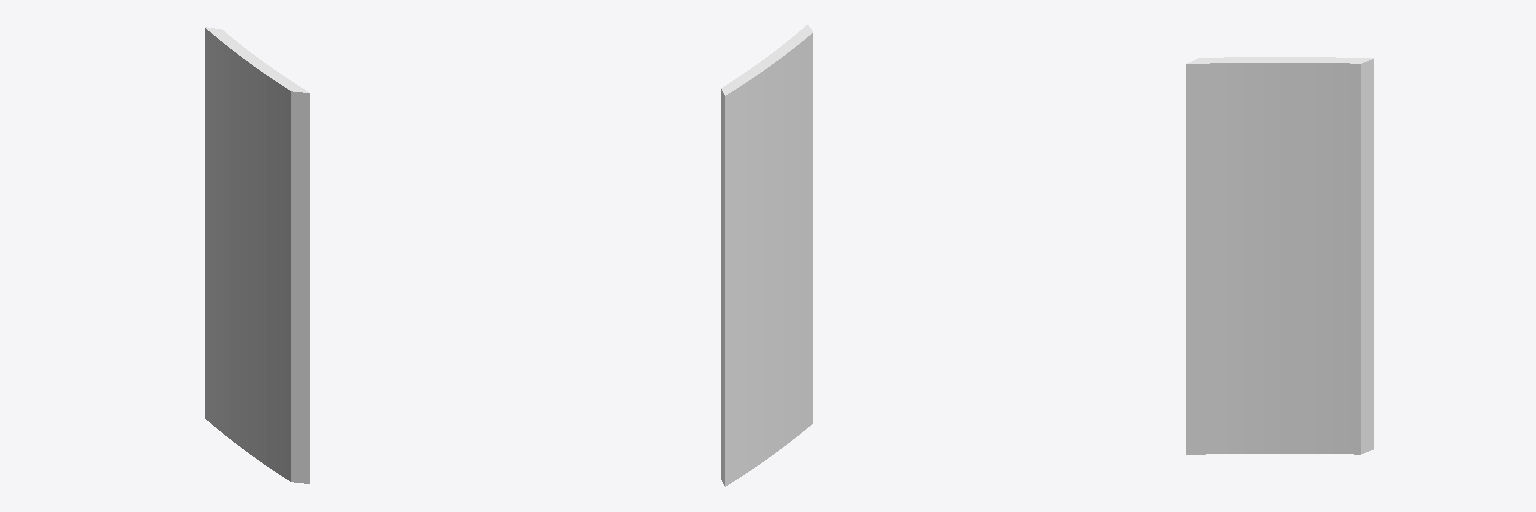
The model's file is living room.obj.
3 views of the same model, side by side, from view 1: azimuth 30°, elevation 25°; view 2: azimuth 150°, elevation 25°; view 3: azimuth 270°, elevation 25° (orthographic).
Visible parts, largest first — view 1: wall_1_4, wall_1_3; view 2: wall_1_4, wall_1_3; view 3: wall_1_3, wall_1_4.
Boxes of the visible parts, box(x1,y1,x2,y2) form: wall_1_4: box(205, 28, 300, 482); wall_1_3: box(301, 92, 309, 483); wall_1_4: box(723, 33, 812, 486); wall_1_3: box(721, 89, 722, 481); wall_1_3: box(1186, 61, 1367, 454); wall_1_4: box(1368, 59, 1373, 451).
Size of the model in its own units: 9.6 by 244 by 107.